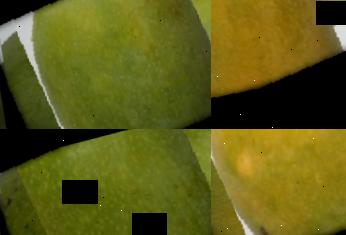PartiallyRipe: (211, 0, 346, 129), (211, 129, 346, 235)
Unripe: (0, 0, 211, 129), (0, 129, 211, 235)
